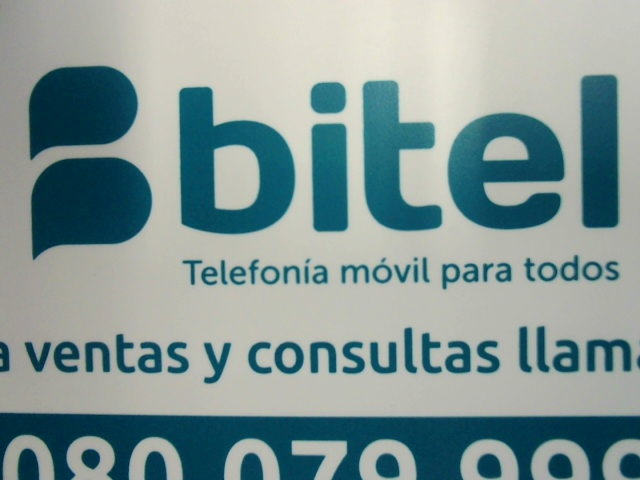BE_bitel: (19, 58, 628, 256)
